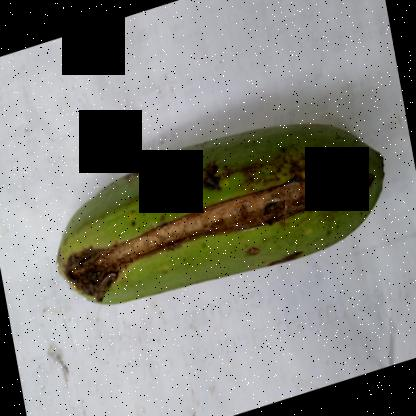rotten: (55, 160, 362, 298)
unripe: (51, 126, 393, 318)
